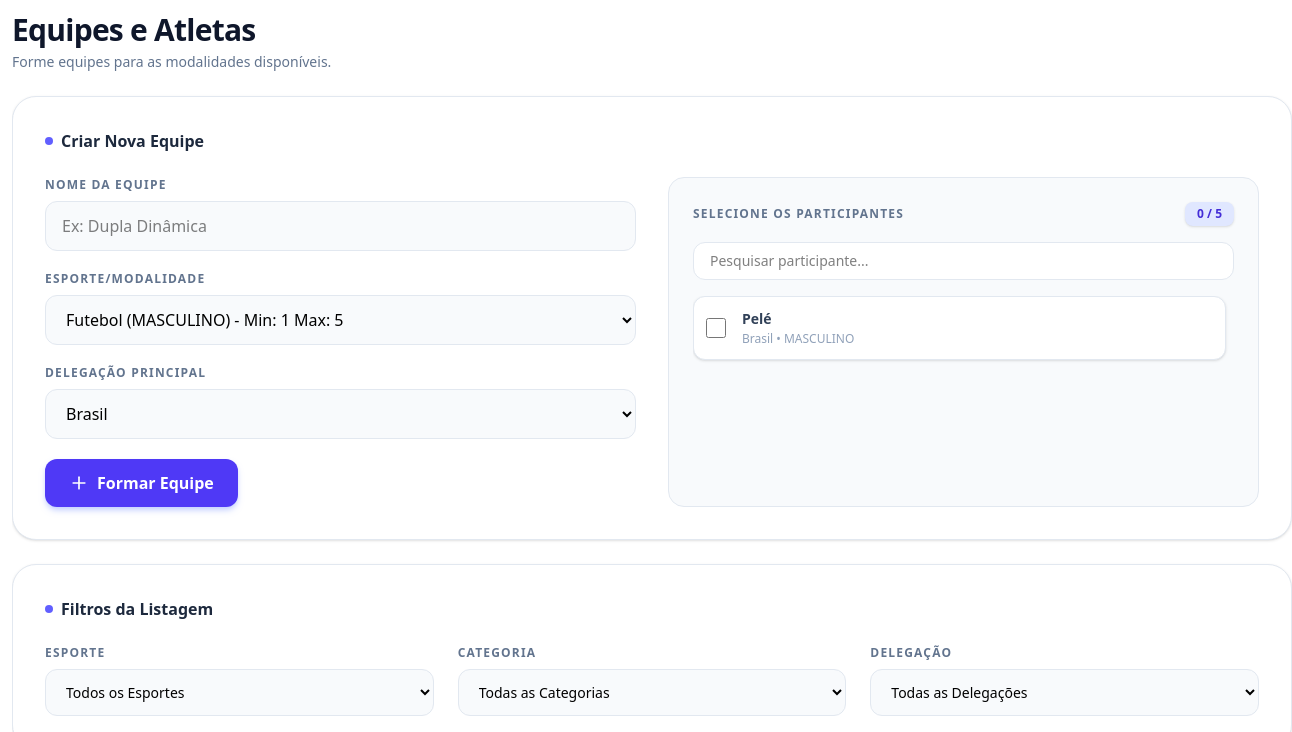
Scenario: Equipes Component › toggles athlete checkboxes when creating a team
The image size is (1292, 732).
Expected: the text "Pelé" is shown, [742,309,772,328]
// Toggle participant selected
Step 1. Click the checkbox → (716, 328), box [706,318,726,338]
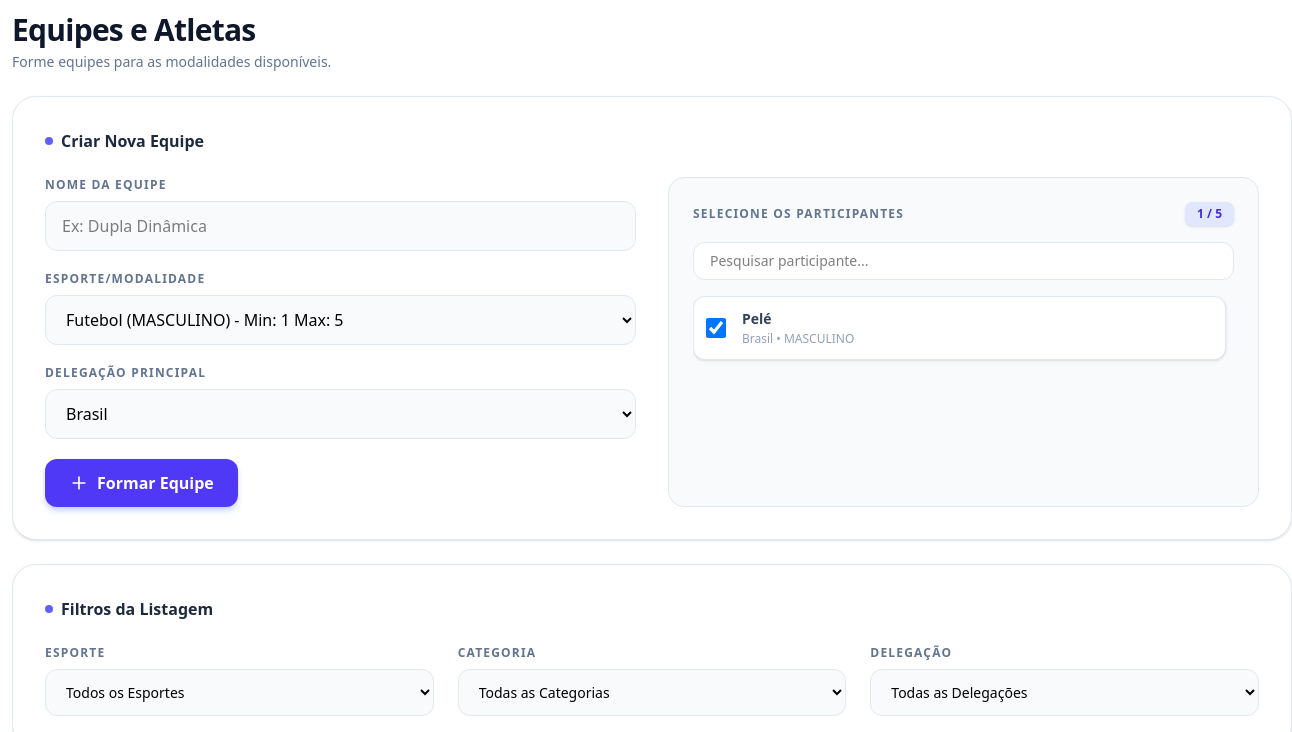
Expected: the checkbox is checked, [706,318,726,338]
Expected: the text "1 / 5" is shown, [1185,202,1234,226]
